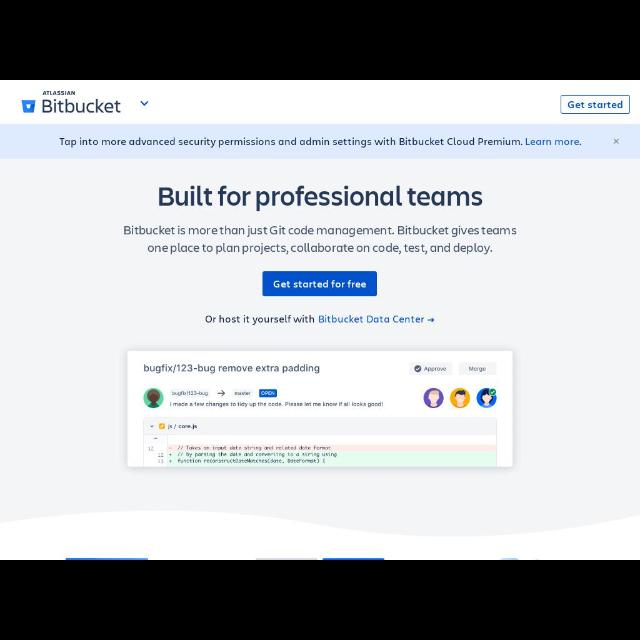icon: (139, 100, 149, 106), (614, 138, 620, 146), (427, 316, 435, 322)
image: (128, 350, 514, 468), (20, 90, 122, 114)
text: (123, 226, 517, 254), (158, 185, 484, 212), (60, 138, 582, 146), (205, 314, 425, 326), (273, 280, 367, 288), (567, 99, 625, 111)
textbutton: (263, 272, 377, 296), (562, 96, 630, 114)
